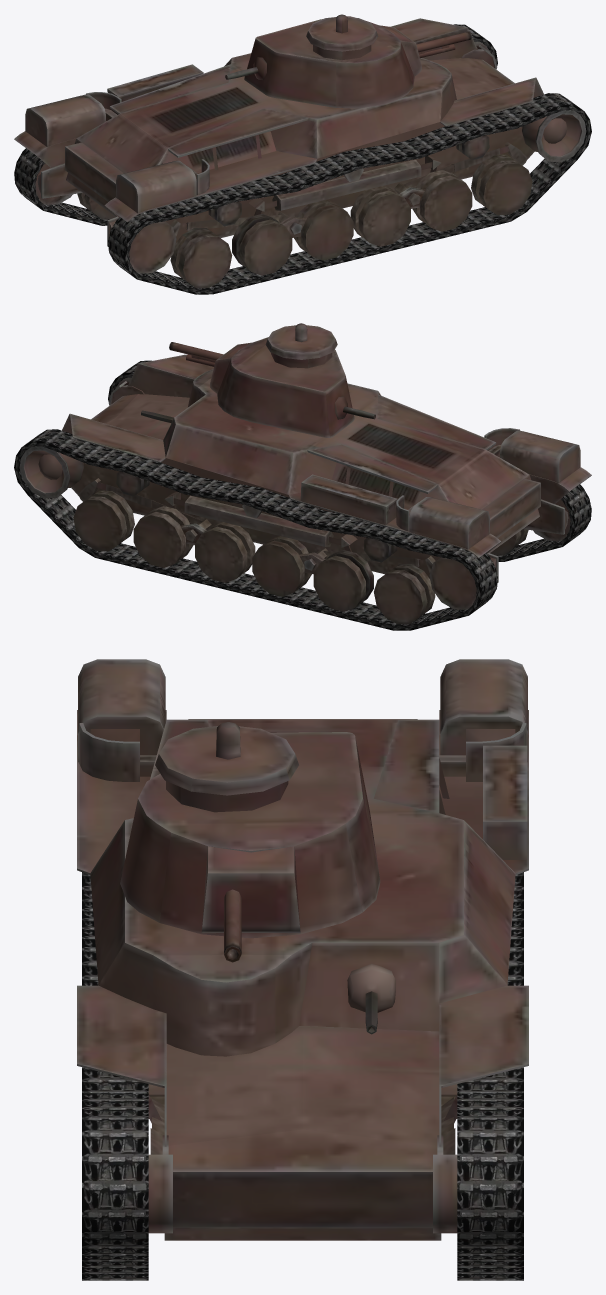
Rendered from type97-chi-ha.glb.
3 renders of one model, top to bottom at view 1: azimuth 30°, elevation 25°; view 2: azimuth 150°, elevation 25°; view 3: azimuth 270°, elevation 25°, orthographic. The views are drawn at different scales.
Visible parts, largest first — view 1: Object_4, Object_10, Turret1, Gun1; view 2: Object_4, Object_10, Turret1, Gun1; view 3: Object_4, Turret1, Object_10, Gun1.
Part boxes in pixels (left/top/right/bottom): Object_4: left=14, top=18, right=586, bottom=288; Object_10: left=14, top=24, right=591, bottom=294; Turret1: left=225, top=14, right=421, bottom=108; Gun1: left=416, top=31, right=471, bottom=58; Object_4: left=19, top=354, right=591, bottom=624; Object_10: left=14, top=360, right=591, bottom=630; Turret1: left=210, top=323, right=375, bottom=437; Gun1: left=169, top=342, right=223, bottom=366; Object_4: left=77, top=659, right=528, bottom=1240; Turret1: left=120, top=722, right=380, bottom=938; Object_10: left=82, top=872, right=523, bottom=1280; Gun1: left=224, top=889, right=241, bottom=962.
Bounding box in the file's own units: 5.5 × 2.38 × 2.3.
Materials: 2 (2 with a texture image).
